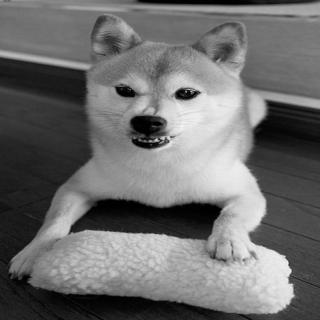dog: (75, 10, 255, 159)
nose: (126, 110, 168, 137)
